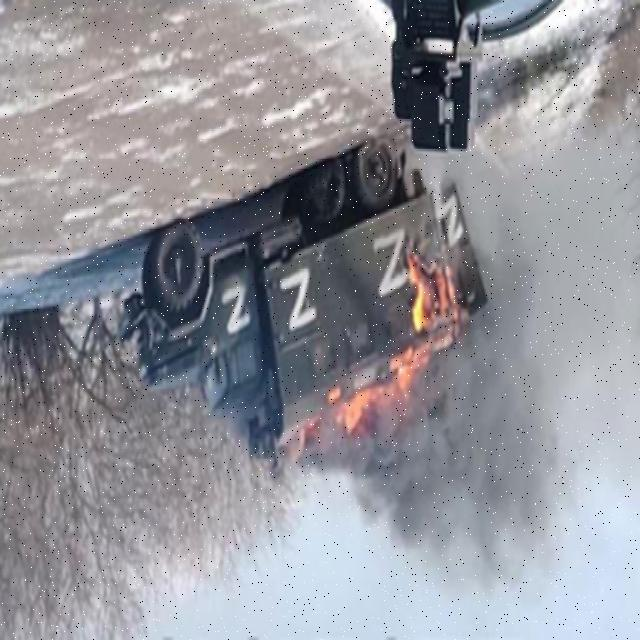TRUCK: (124, 136, 478, 473)
